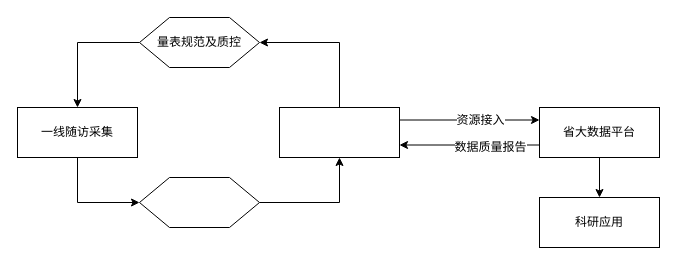
Image size: 677x265. Some labels were removed from this diagram. Here are the shapes that lost their labels. From the top down, the centre of each, then its label:
At (x=339, y=132): "联盟".
At (x=199, y=202): "数据汇总存储".
